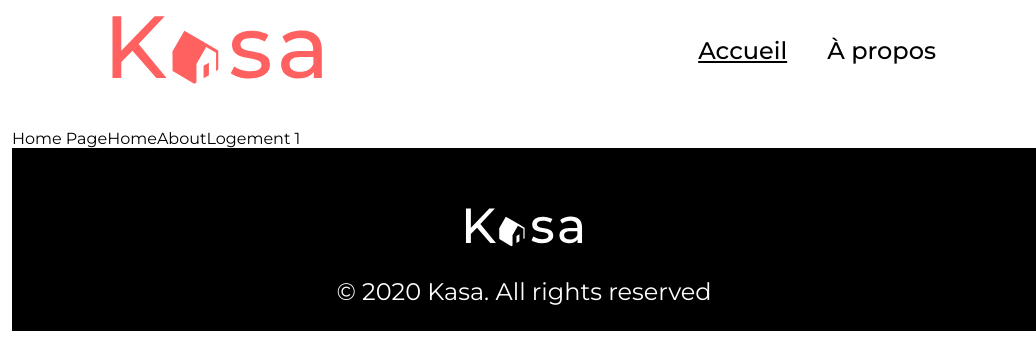
Test: Given the AppRouter › it should navigate to the about page
This screenshot has width=1036, height=348.
Click the link "About": (182, 138) top-left (157, 129), bottom-right (206, 148)
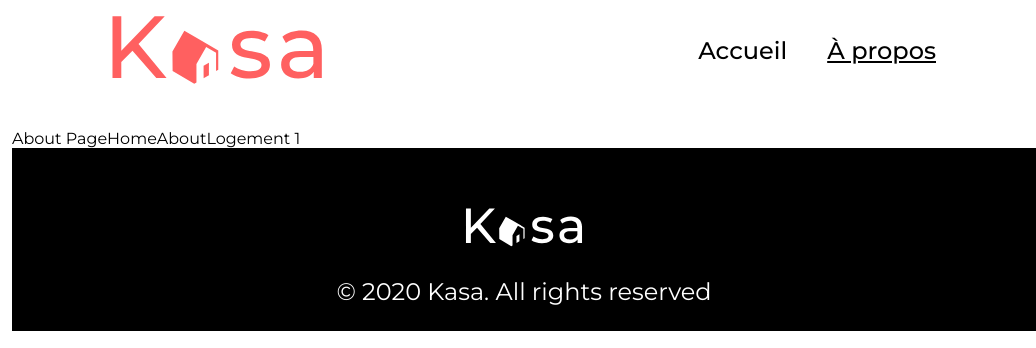
Now the text "About Page Home About Logement 1" is shown, box top-left (12, 129), bottom-right (300, 148)
